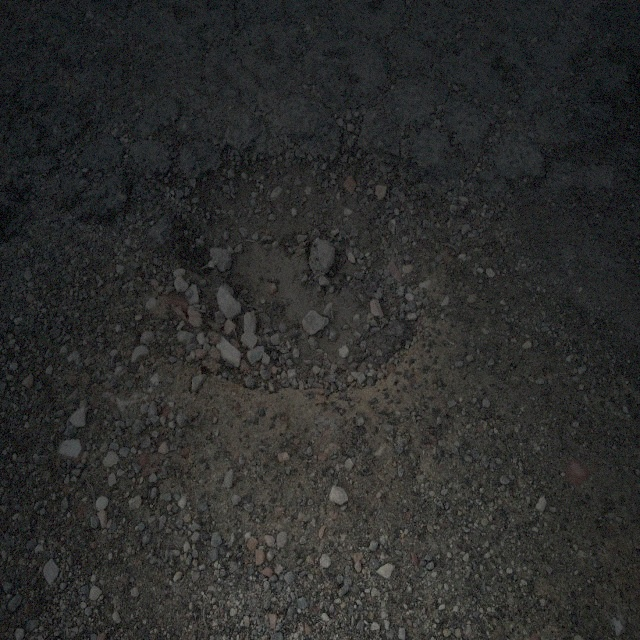pothole: (156, 131, 448, 416)
